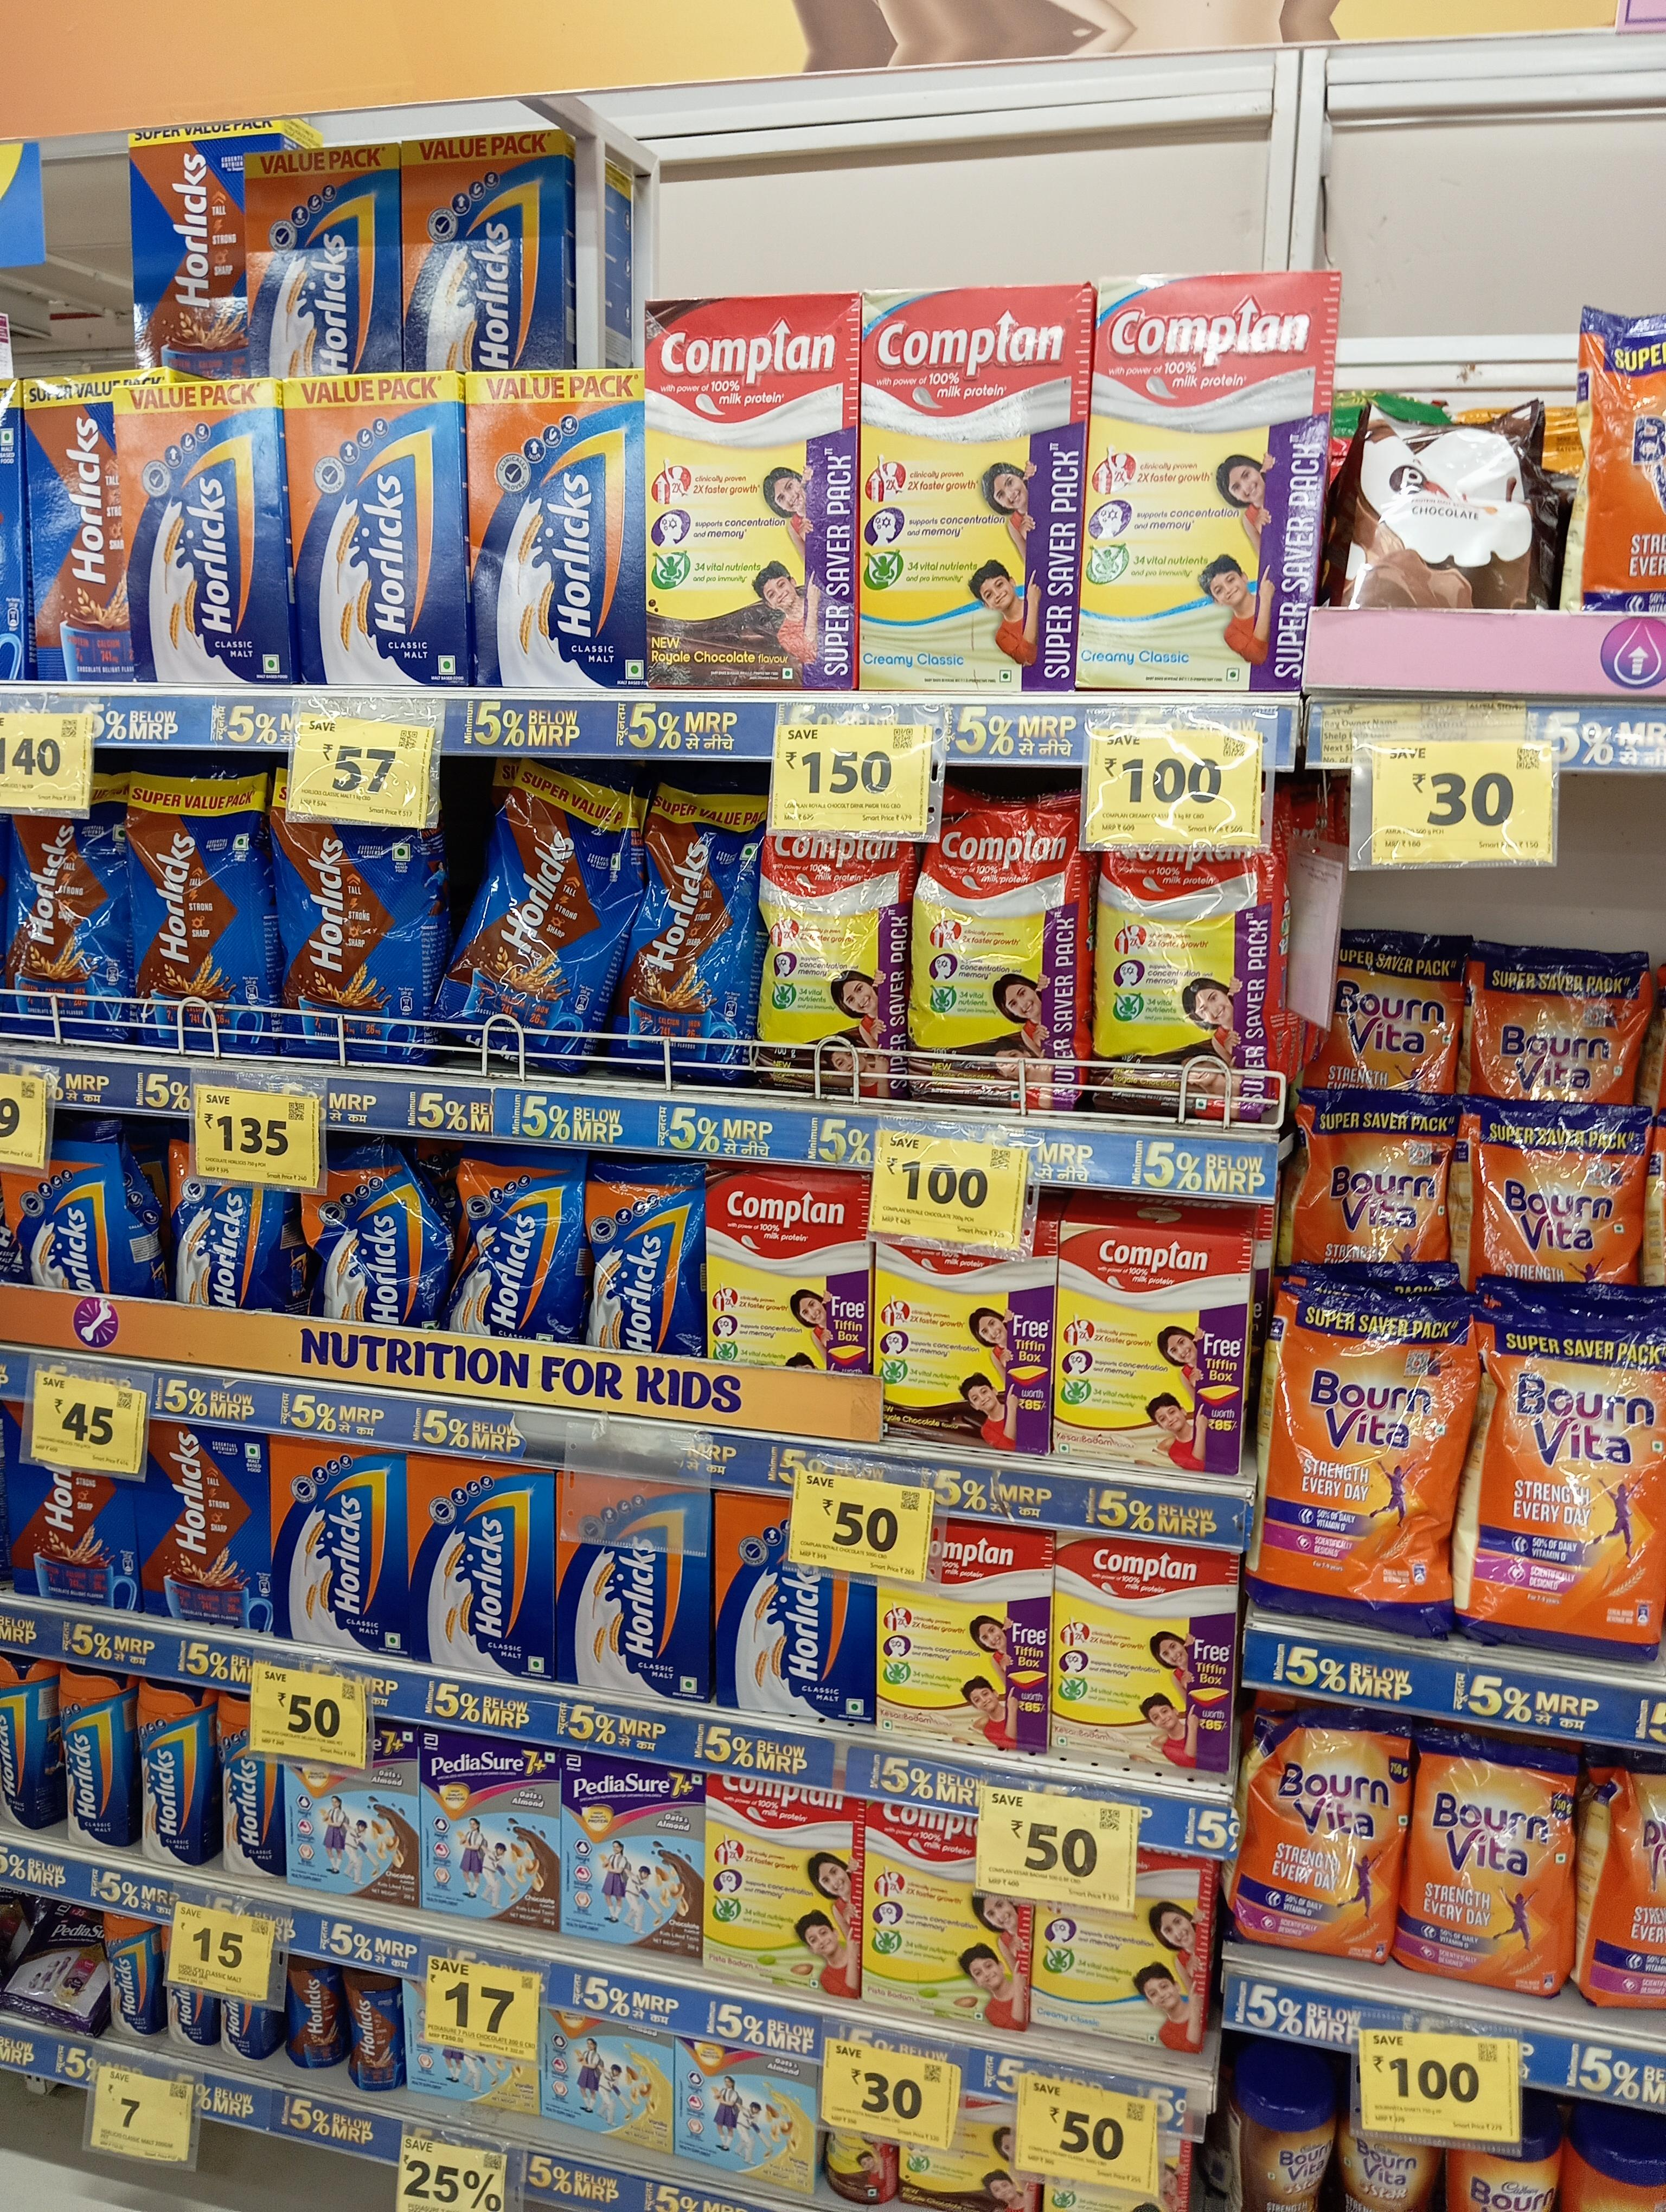COMPLAN_CHOCOLATE_1_KG_PACK: (641, 294, 858, 691)
COMPLAN_CHOCOLATE_500_GMS_PACK: (877, 1240, 1050, 1450)
COMPLAN_KESAR_BADAM_500_GMS_PACK: (1057, 1222, 1242, 1472), (1054, 1548, 1234, 1764), (878, 1581, 1050, 1750)
COMPLAN_PISTA_BADAM_500_GMS_PACK: (702, 1780, 859, 1995), (868, 1897, 1027, 2025)
COMPLAN_RC_POUCH_700_GMS_12: (1096, 850, 1274, 1119), (912, 845, 1085, 1103), (760, 836, 905, 1095)
HORLICK_CHOCOLATE_200_G_JAR: (278, 1953, 341, 2069), (348, 1967, 402, 2090)
